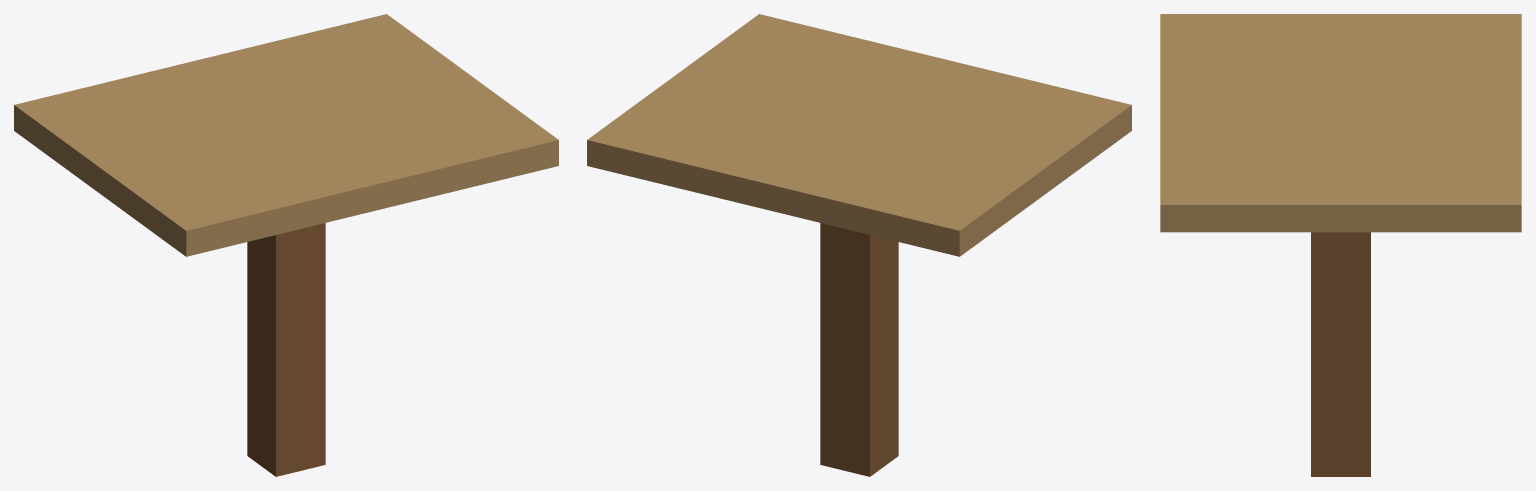
File: Booth Table.fbx
The picture shows the model from 3 angles, left to right: view 1: azimuth 30°, elevation 25°; view 2: azimuth 150°, elevation 25°; view 3: azimuth 270°, elevation 25°; orthographic projection. The views are drawn at different scales.
Parts seen in each view (by area): view 1: Booth Table; view 2: Booth Table; view 3: Booth Table.
Boxes of the visible parts, x1,y1,x2,y2 form: Booth Table: (14,14,558,476); Booth Table: (587,14,1131,476); Booth Table: (1160,14,1521,476).
Size of the model in its own units: 750 by 650 by 600.
